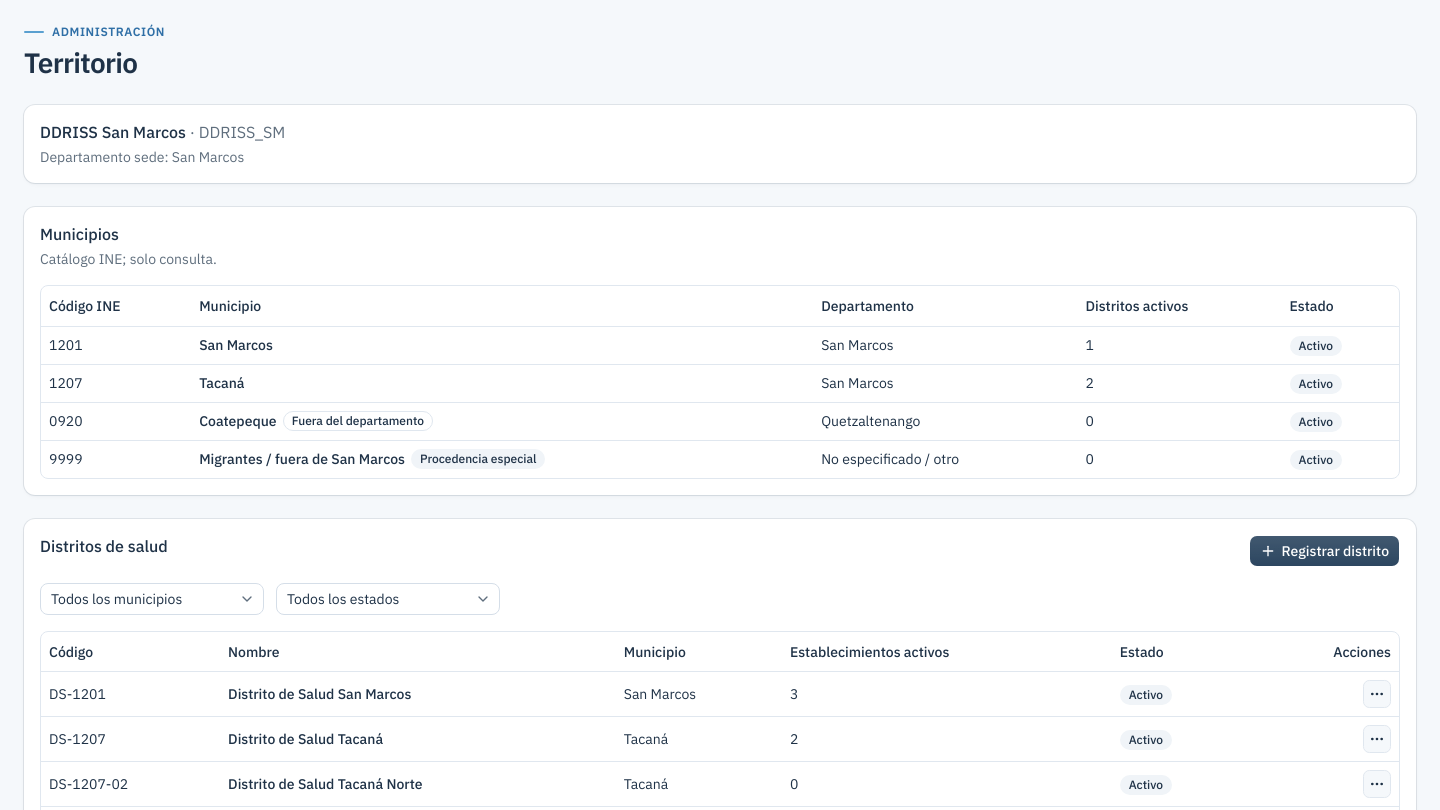
Test: registrar y renombrar › renombrar muestra el código y el municipio como texto, envía solo el nombre y reemplaza la fila
Press Enter in the button named "Acciones de DS-1207-02", box [1363, 770, 1391, 798]
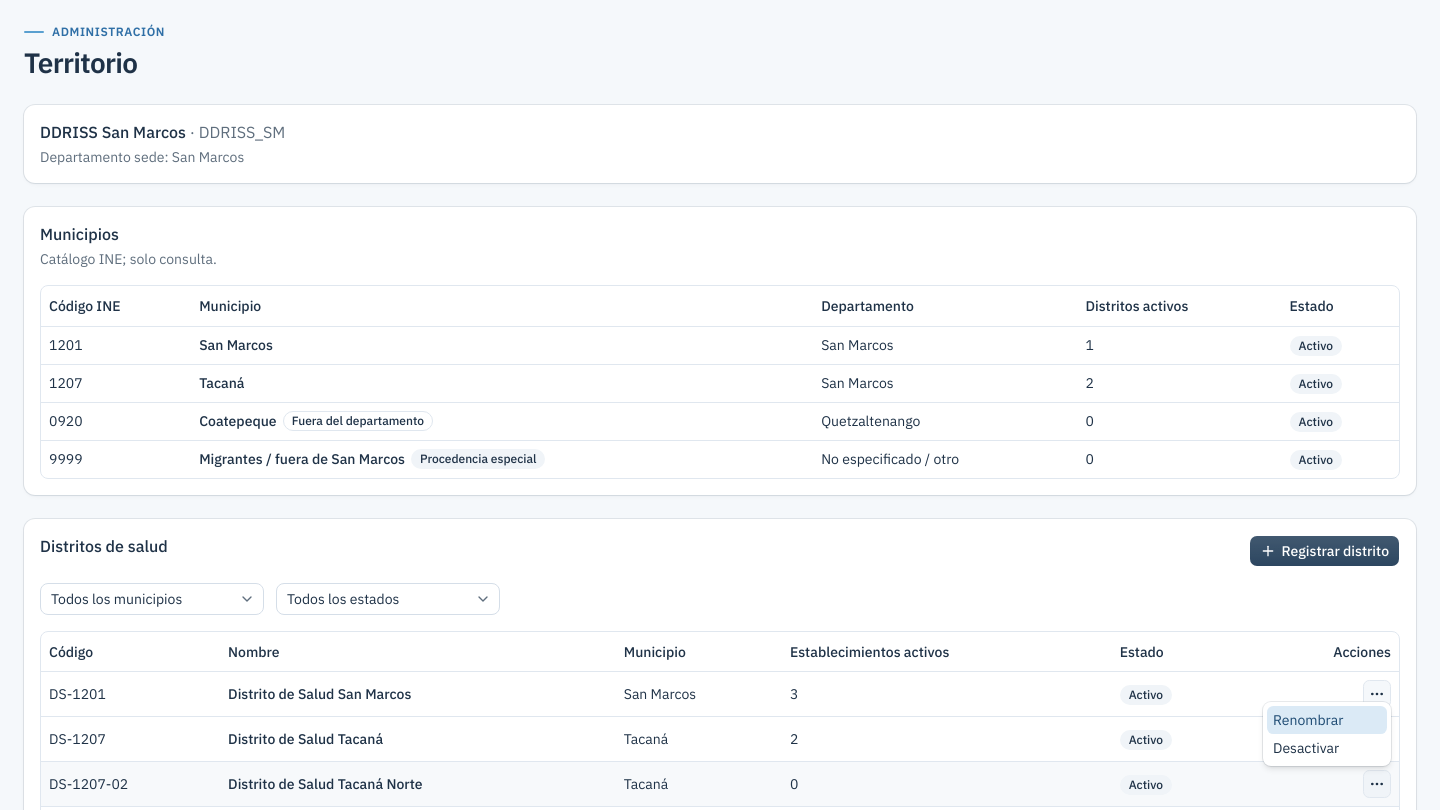
Click the menu item "Renombrar": (1327, 720) [1267, 706, 1387, 734]
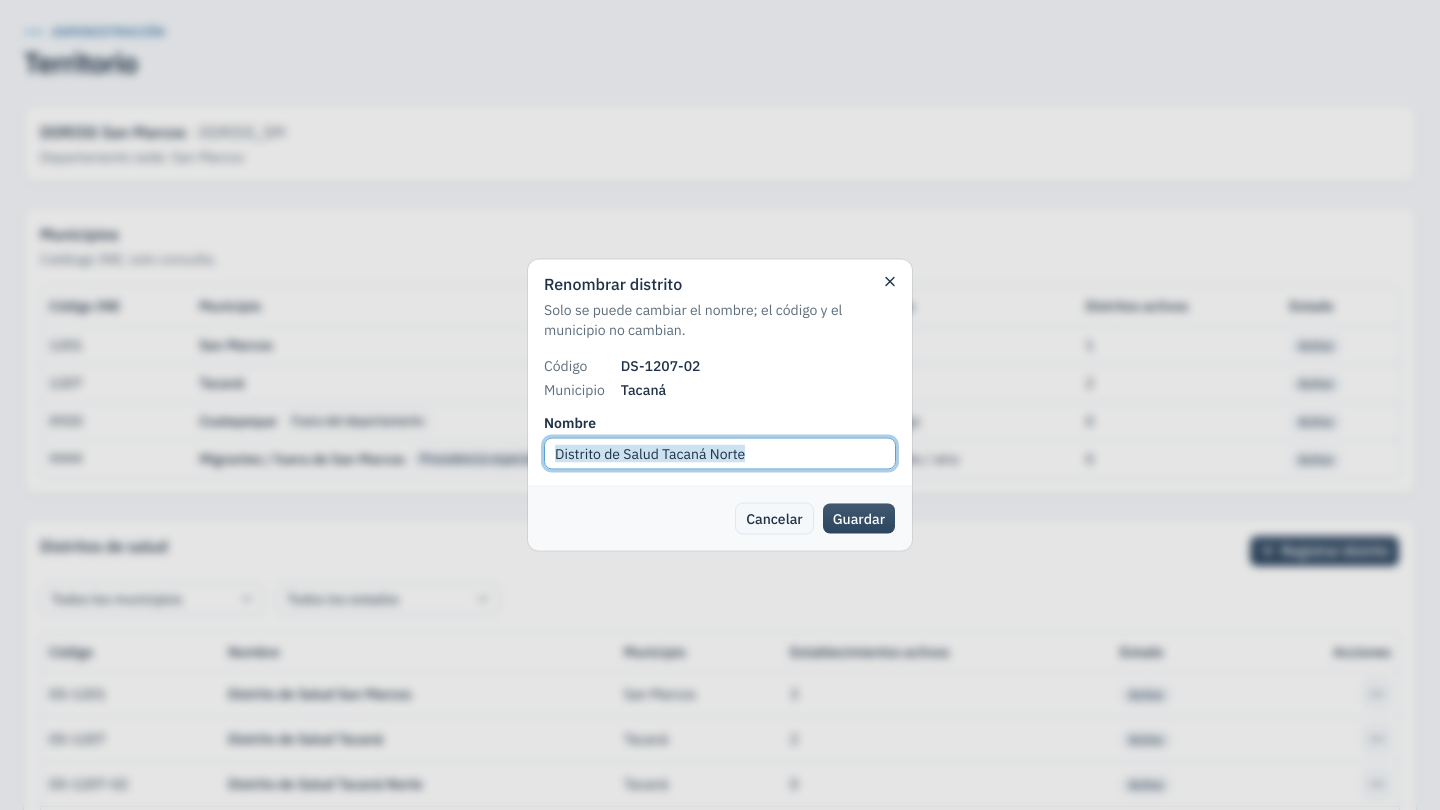
expect the dialog is shown: met, box [528, 260, 912, 550]
expect the text "DS-1207-02" is shown: met, box [621, 356, 700, 374]
expect the text "Tacaná" is shown: met, box [621, 380, 666, 398]
Replace the text in the field labelled "Nombre" with "Distrito de Salud Tacaná Alto": (720, 454) [544, 438, 896, 470]
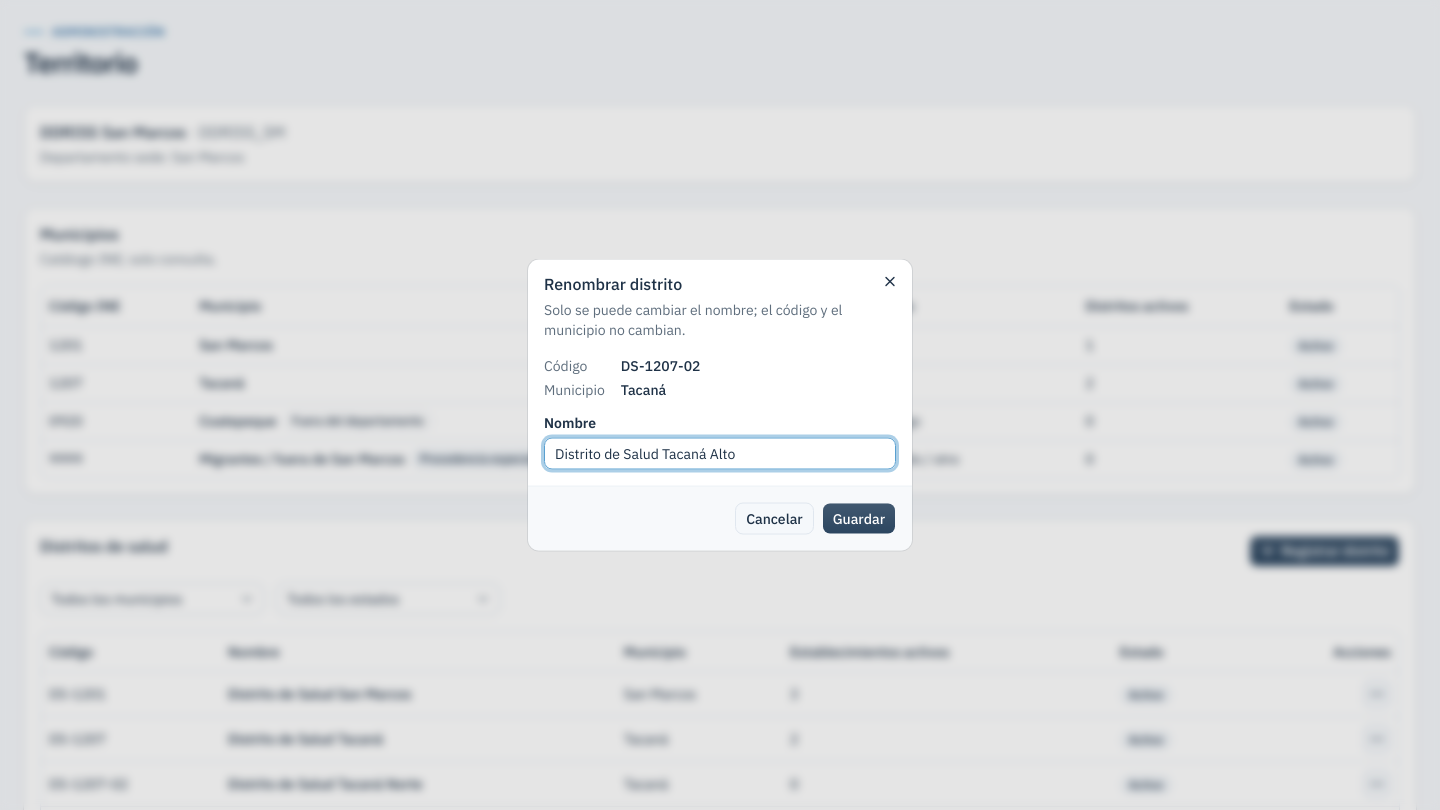
Click the button "Guardar": (859, 518) [822, 502, 896, 534]
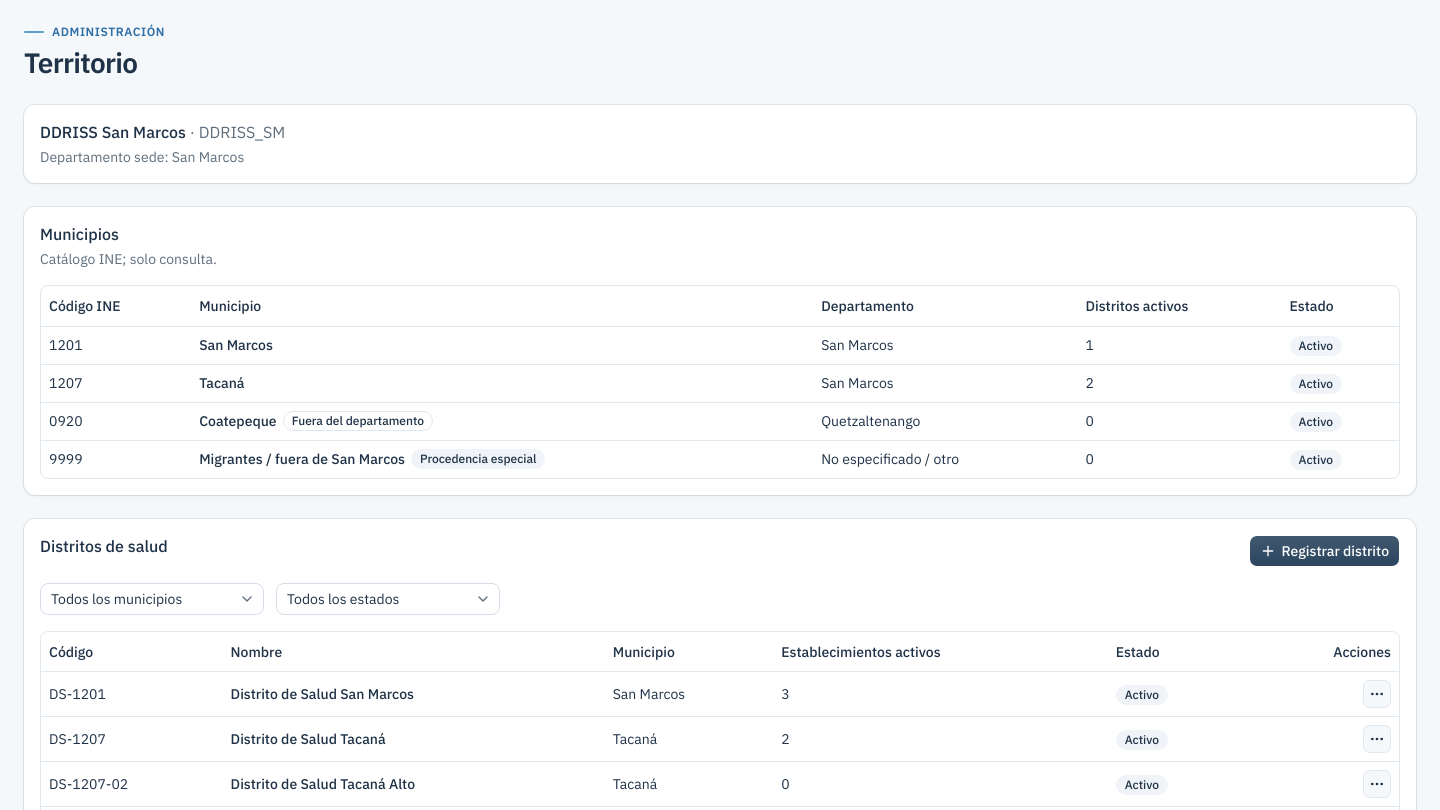
expect the dialog is gone: met
expect the text "Distrito de Salud Tacaná Alto" is shown: met, box [223, 762, 605, 807]
